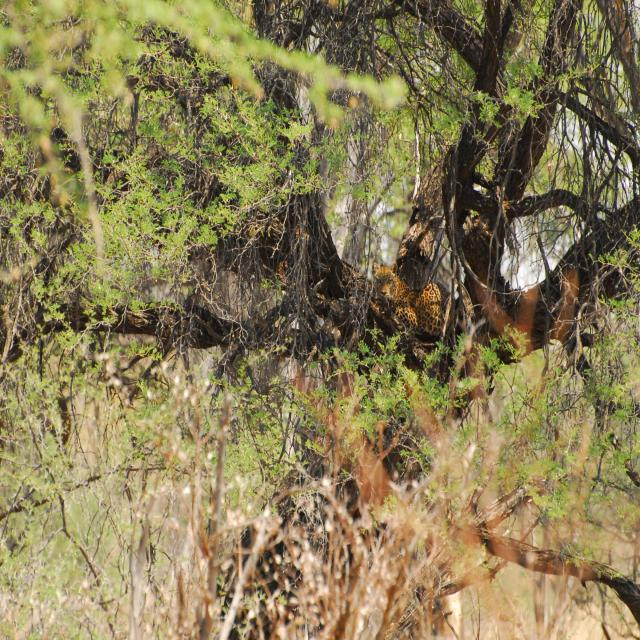Leopard: (366, 259, 463, 348)
